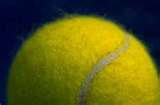tennis ball: (6, 16, 159, 105)
